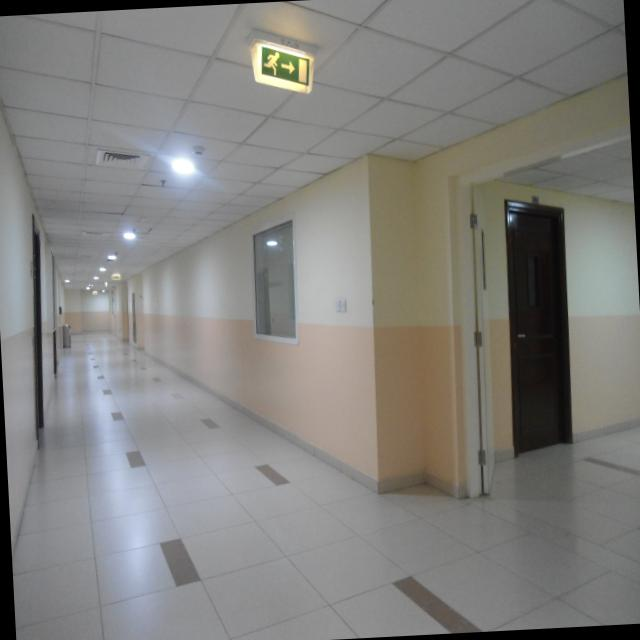door: (505, 200, 573, 457)
exitLight: (261, 47, 310, 84)
path: (12, 333, 640, 640)
